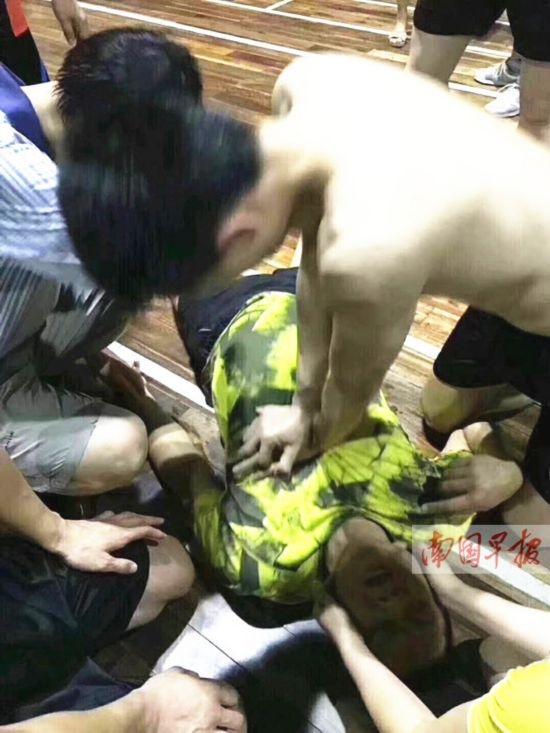falling: (108, 215, 549, 733)
